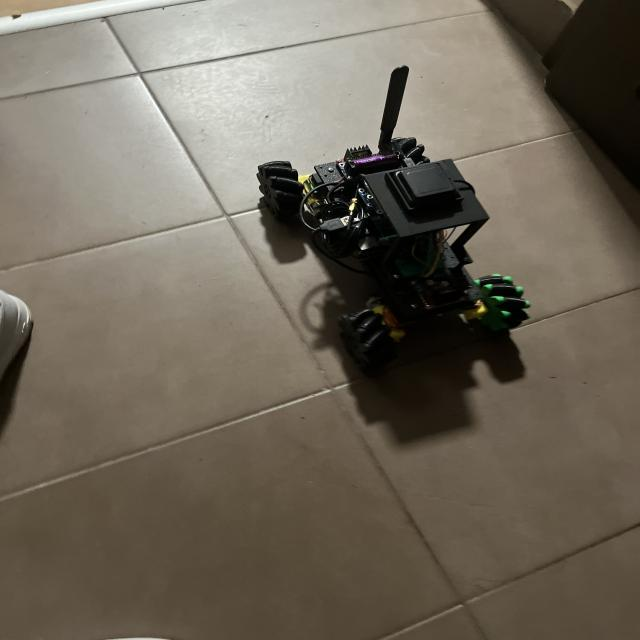robot: (257, 66, 530, 372)
